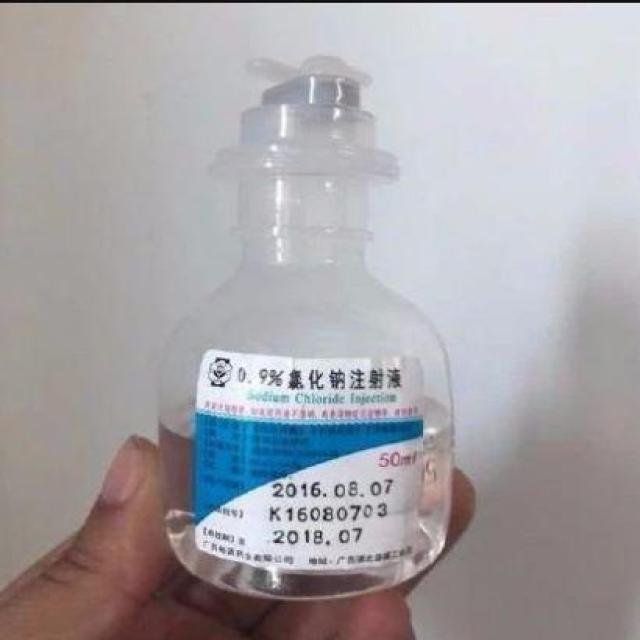-Recyclables - plastic bottle-: (160, 52, 450, 602)
